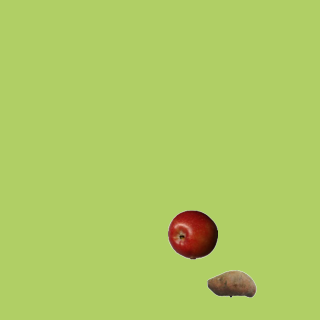Apple Braeburn: (167, 209, 217, 259)
Potato Sweet: (206, 258, 256, 308)
